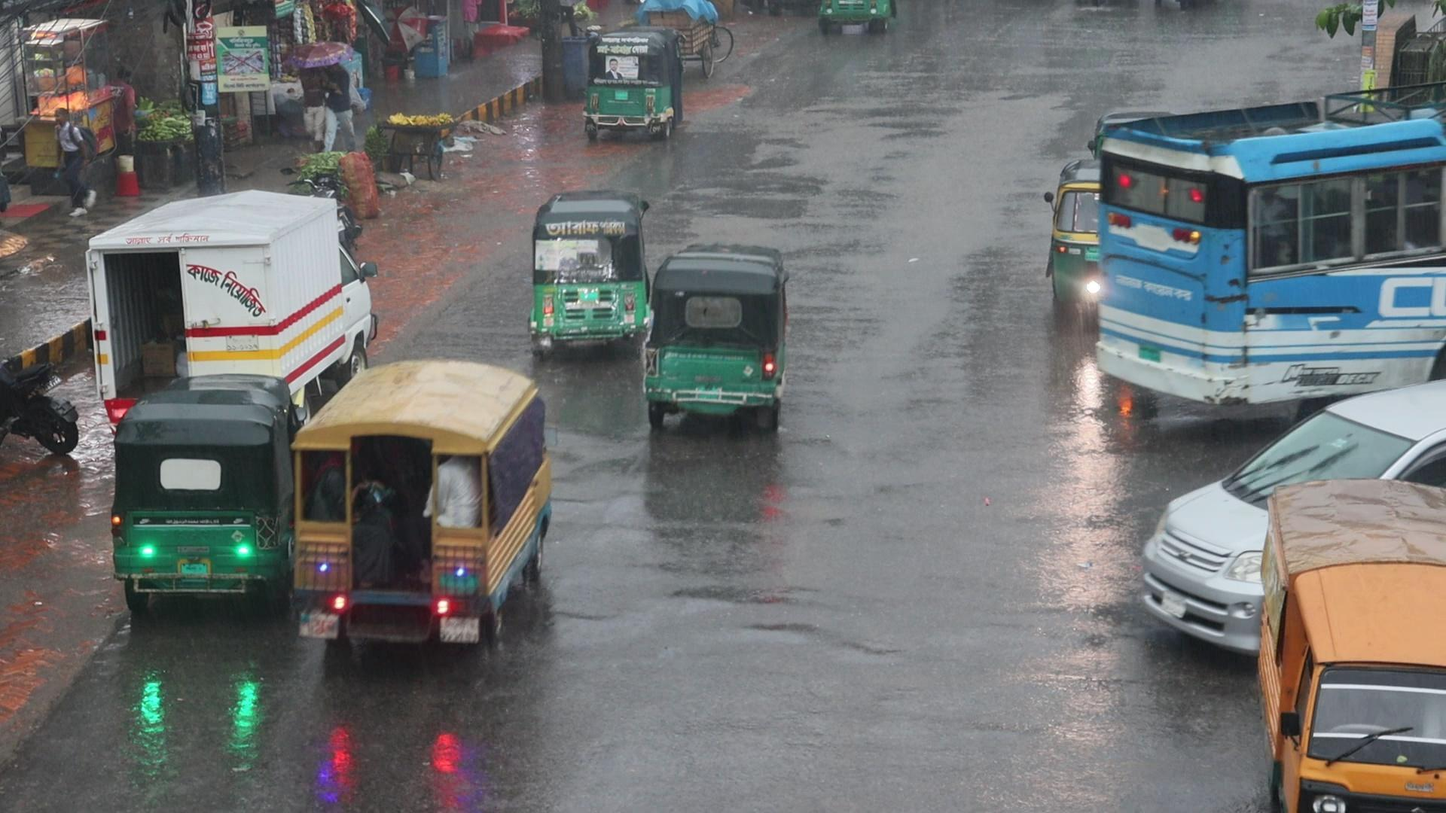Bus: (1091, 96, 1446, 445)
Truck: (284, 356, 558, 664), (1256, 473, 1446, 813)
